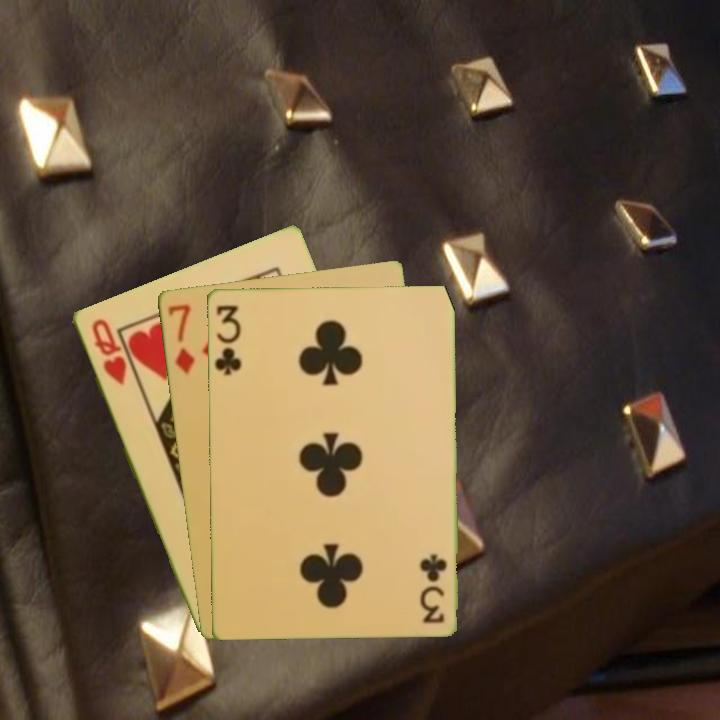3c: (210, 301, 243, 378), (419, 550, 449, 626)
7d: (164, 300, 197, 377)
Qh: (87, 315, 129, 388)
